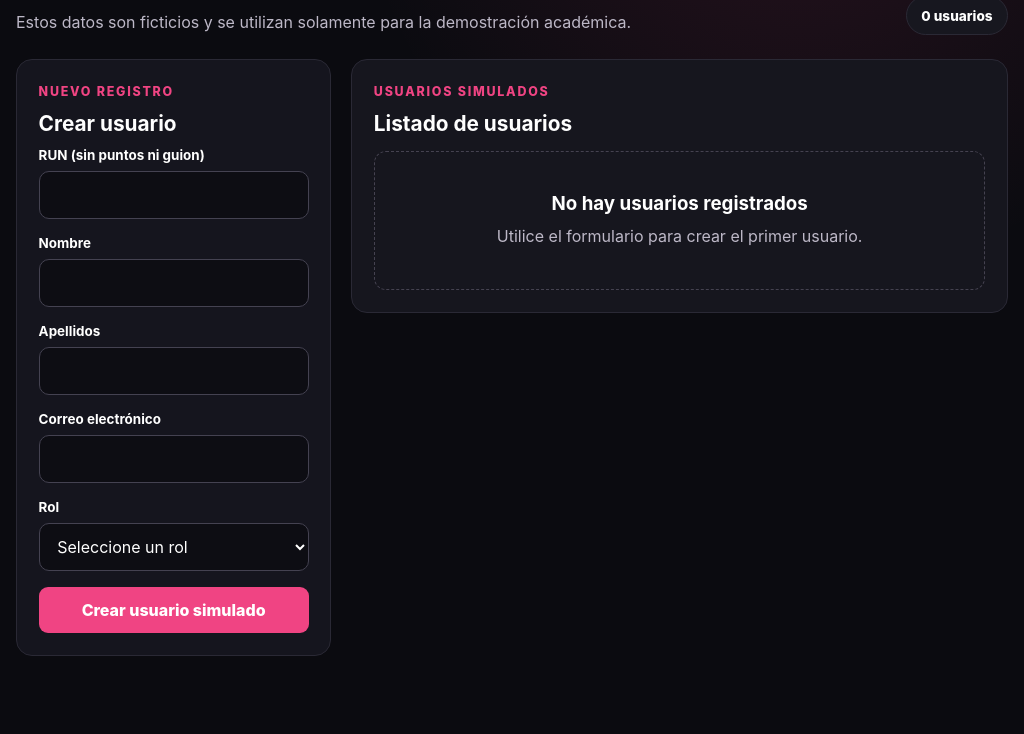
Test: administración de usuarios › muestra los errores entregados por el servicio
(page scrolled)
Click the button "Crear usuario simulado" at (174, 610), box 39,587 -> 309,633
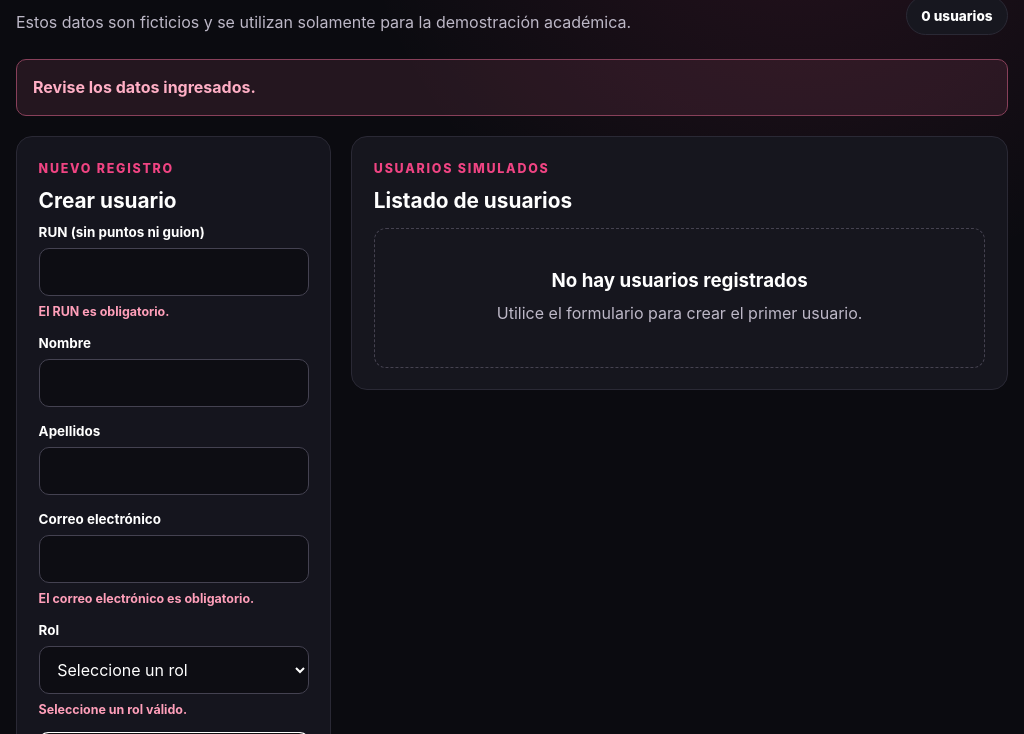
Expected: the heading "No hay usuarios registrados" is shown, 552,269 -> 808,292
Expected: the message reads "Revise los datos ingresados.", 33,77 -> 256,97
Expected: the text "El RUN es obligatorio." is shown, 39,304 -> 169,319
